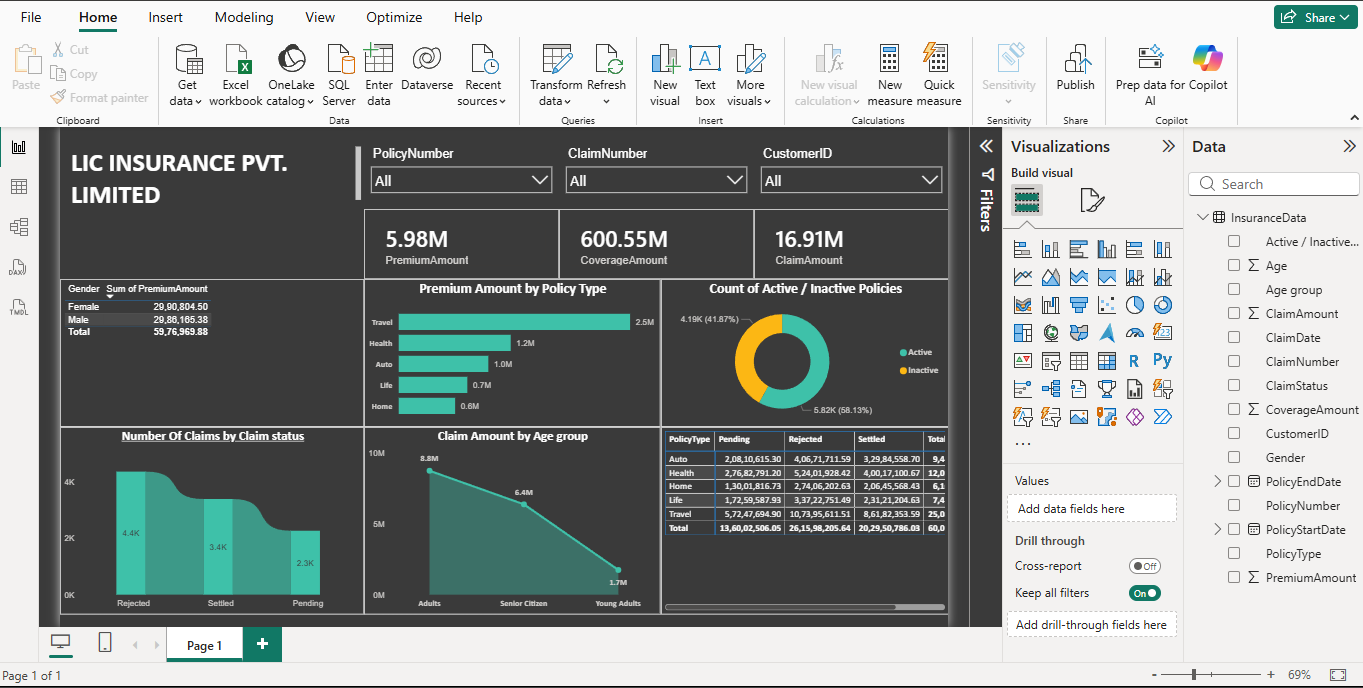

The page's visual inventory and layout, read from the dashboard file:
{"tool":"powerbi","page":{"name":"Page 1","canvas":[1280,720],"ordinal":0},"visuals":[{"type":"slicer","fields":{"Values":["InsuranceData.PolicyNumber"]},"box":[438.4,23.5,280.5,73.9],"z":0},{"type":"slicer","fields":{"Values":["InsuranceData.ClaimNumber"]},"box":[719,23.5,280.5,73.9],"z":1000},{"type":"slicer","fields":{"Values":["InsuranceData.CustomerID"]},"box":[999.5,23.5,280.5,73.9],"z":2000},{"type":"textbox","box":[11.8,23.5,426.7,94.1],"z":3000},{"type":"cardVisual","fields":{"Data":["Sum(InsuranceData.PremiumAmount)"]},"box":[438.4,117.6,280.5,100.8],"z":4000},{"type":"cardVisual","fields":{"Data":["Sum(InsuranceData.ClaimAmount)"]},"box":[999.5,117.6,280.5,100.8],"z":5000},{"type":"cardVisual","fields":{"Data":["Sum(InsuranceData.CoverageAmount)"]},"box":[719,117.6,280.5,100.8],"z":6000},{"type":"tableEx","fields":{"Values":["InsuranceData.Gender","Sum(InsuranceData.PremiumAmount)"]},"box":[0,218.4,438.4,213.3],"z":7000},{"type":"ribbonChart","title":"Number Of Claims by Claim status","fields":{"Category":["InsuranceData.ClaimStatus"],"Y":["CountNonNull(InsuranceData.ClaimStatus)"]},"box":[0,431.7,438.4,270.4],"z":8000},{"type":"barChart","title":"Premium Amount by Policy Type","fields":{"Category":["InsuranceData.PolicyType"],"Y":["Sum(InsuranceData.PremiumAmount)"]},"box":[438.4,218.4,426.7,213.3],"z":9000},{"type":"lineChart","title":"Claim Amount by Age group","fields":{"Category":["InsuranceData.Age group"],"Y":["Sum(InsuranceData.ClaimAmount)"]},"box":[438.4,431.7,426.7,270.4],"z":10000},{"type":"donutChart","title":"Count of Active / Inactive Policies","fields":{"Category":["InsuranceData.Active / Inactive Customer"],"Y":["CountNonNull(InsuranceData.Active / Inactive Customer)"]},"box":[865.1,218.4,414.9,213.3],"z":10001},{"type":"pivotTable","fields":{"Values":["Sum(InsuranceData.CoverageAmount)"],"Rows":["InsuranceData.PolicyType"],"Columns":["InsuranceData.ClaimStatus"]},"box":[865.1,431.7,414.9,270.4],"z":10002}]}

Visuals, with their boxes on the page's 1280x720 design canvas (x1, y1, x2, y2). These are canvas units, not pixel positions in the 1363x688 screenshot, which may show the page scaled, cropped or inside an application window:
slicer - InsuranceData.PolicyNumber: (left=438, top=24, right=719, bottom=97)
slicer - InsuranceData.ClaimNumber: (left=719, top=24, right=1000, bottom=97)
slicer - InsuranceData.CustomerID: (left=1000, top=24, right=1280, bottom=97)
textbox: (left=12, top=24, right=438, bottom=118)
cardVisual - Sum(InsuranceData.PremiumAmount): (left=438, top=118, right=719, bottom=218)
cardVisual - Sum(InsuranceData.ClaimAmount): (left=1000, top=118, right=1280, bottom=218)
cardVisual - Sum(InsuranceData.CoverageAmount): (left=719, top=118, right=1000, bottom=218)
tableEx - InsuranceData.Gender x Sum(InsuranceData.PremiumAmount): (left=0, top=218, right=438, bottom=432)
"Number Of Claims by Claim status" ribbonChart: (left=0, top=432, right=438, bottom=702)
"Premium Amount by Policy Type" barChart: (left=438, top=218, right=865, bottom=432)
"Claim Amount by Age group" lineChart: (left=438, top=432, right=865, bottom=702)
"Count of Active / Inactive Policies" donutChart: (left=865, top=218, right=1280, bottom=432)
pivotTable - Sum(InsuranceData.CoverageAmount) x InsuranceData.PolicyType: (left=865, top=432, right=1280, bottom=702)
